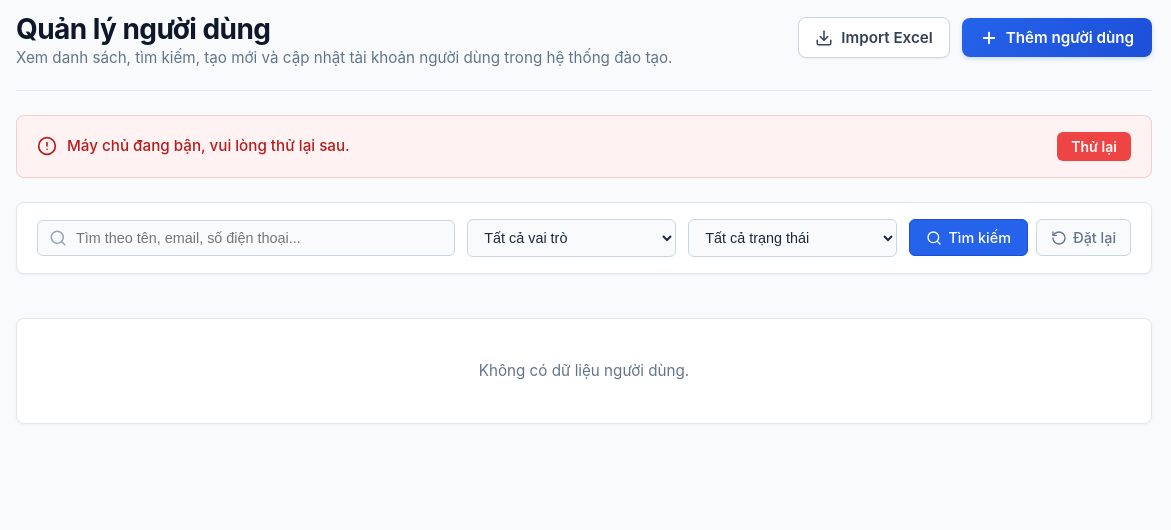
Scenario: SCRUM-94: User Management State & Integration › 6. hiển thị banner lỗi và nút Thử lại khi API gặp sự cố
The width and height of the screenshot is (1171, 530).
Expected: the message "Máy chủ đang bận, vui lòng thử lại sau. Thử lại" is shown, [16,115,1152,178]
Expected: the text "Máy chủ đang bận, vui lòng thử lại sau." is shown, [67,134,350,158]
Note: Bấm nút thử lại
Click the button with test id "btn-retry-users" at (1094, 146), box [1057,132,1131,161]
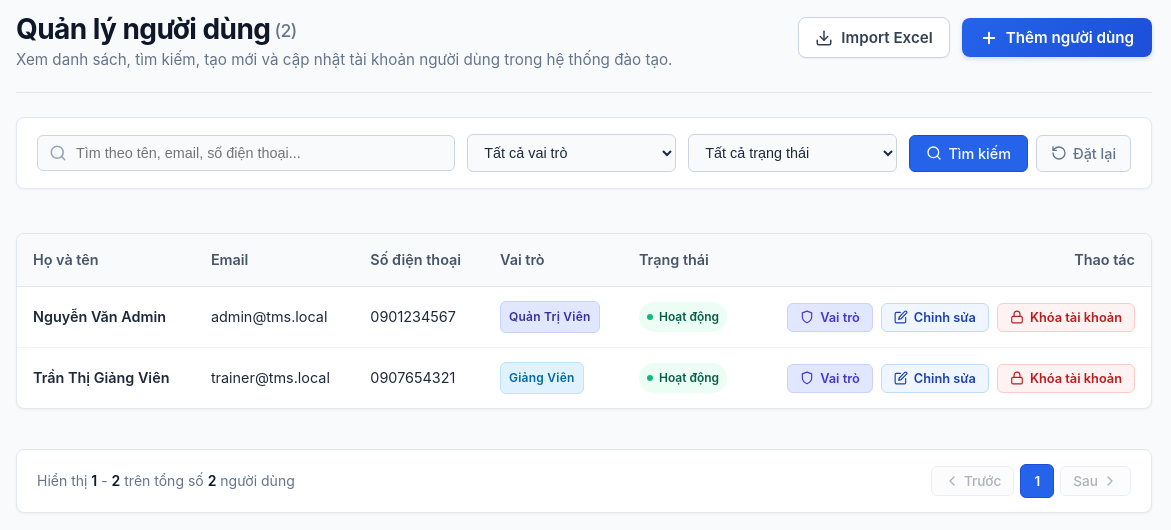
Expected: the message with test id "user-error-state" is gone
Expected: the text "Nguyễn Văn Admin" is shown, [17,287,195,348]
